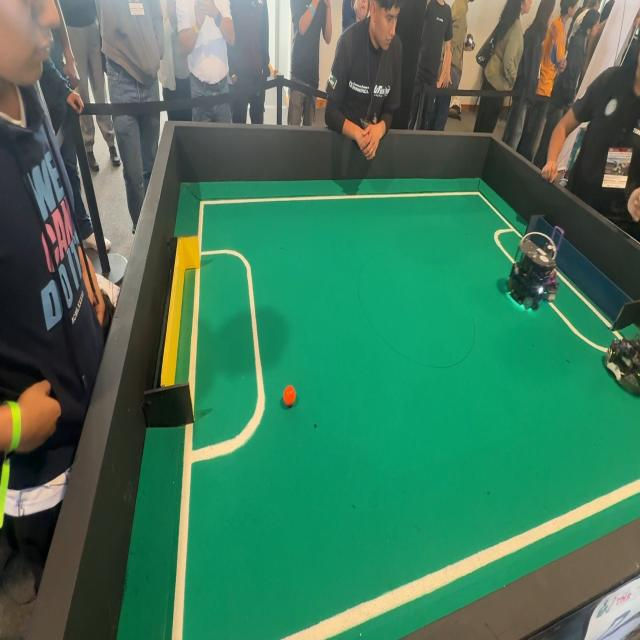Robot: (494, 213, 573, 322), (598, 310, 640, 406)
pelota: (281, 385, 298, 410)
